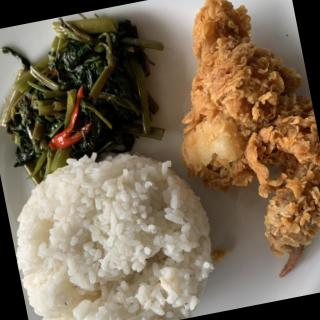Nasi: (1, 137, 228, 320)
